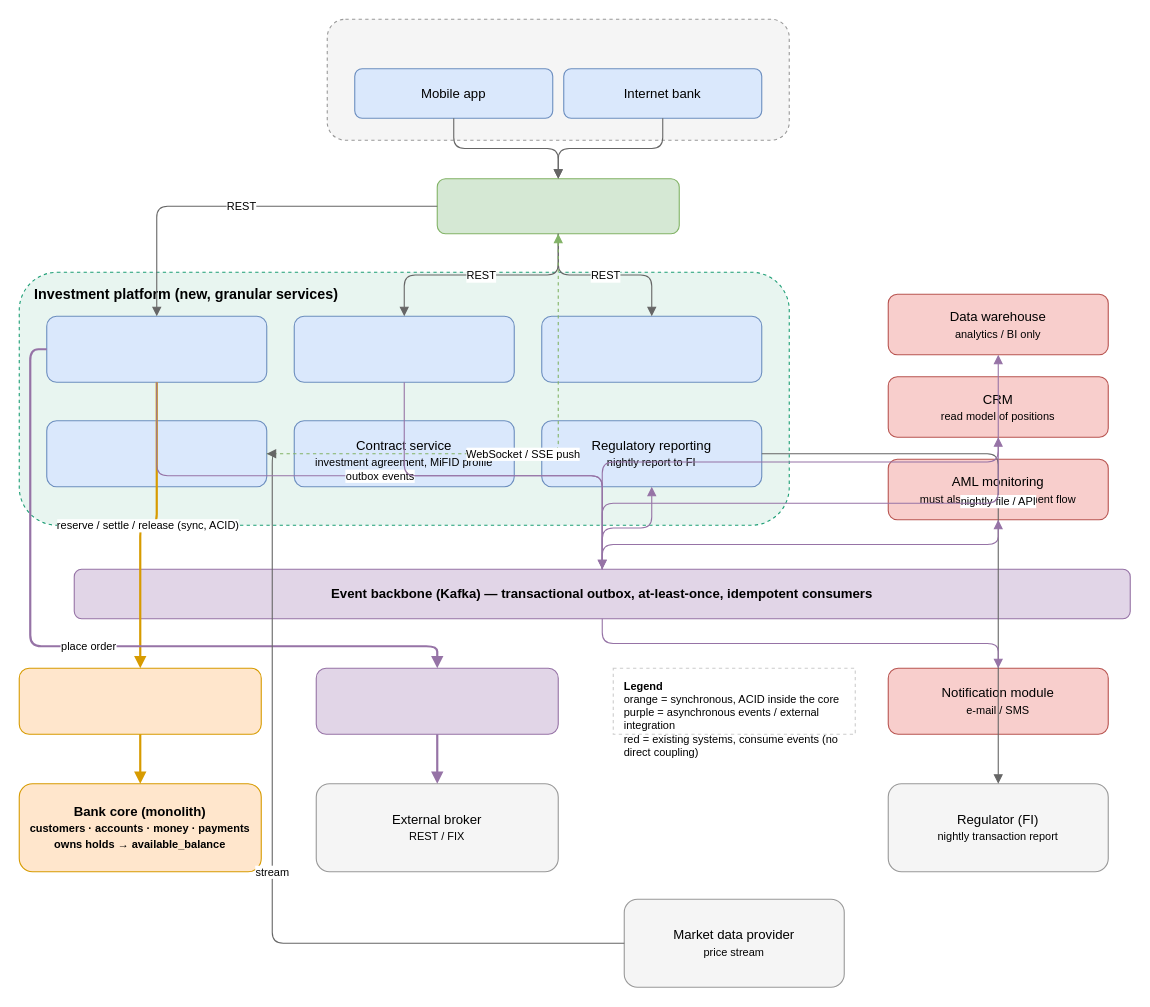
Some shapes in this 1150 by 1007 pixel diagram are drawn without their labels. The shapes that lost their labels are listed below. From the top down, each one's box as (x1, y1, x2, y2) in pixels, then its label:
(326, 18, 789, 140): Digital channels
(436, 178, 679, 234): API gateway / BFF REST + WebSocket
(46, 315, 267, 382): Order & execution lifecycle, saga orchestration
(293, 315, 514, 382): Portfolio & positions positions, P&L, position holds
(541, 315, 762, 382): Instrument & search securities catalogue
(46, 420, 267, 487): Market data near real-time prices, fan-out
(18, 667, 261, 734): Funds API (facade) reserve / settle / release, idempotent
(315, 667, 558, 734): Broker gateway (ACL) anti-corruption layer, idempotent
